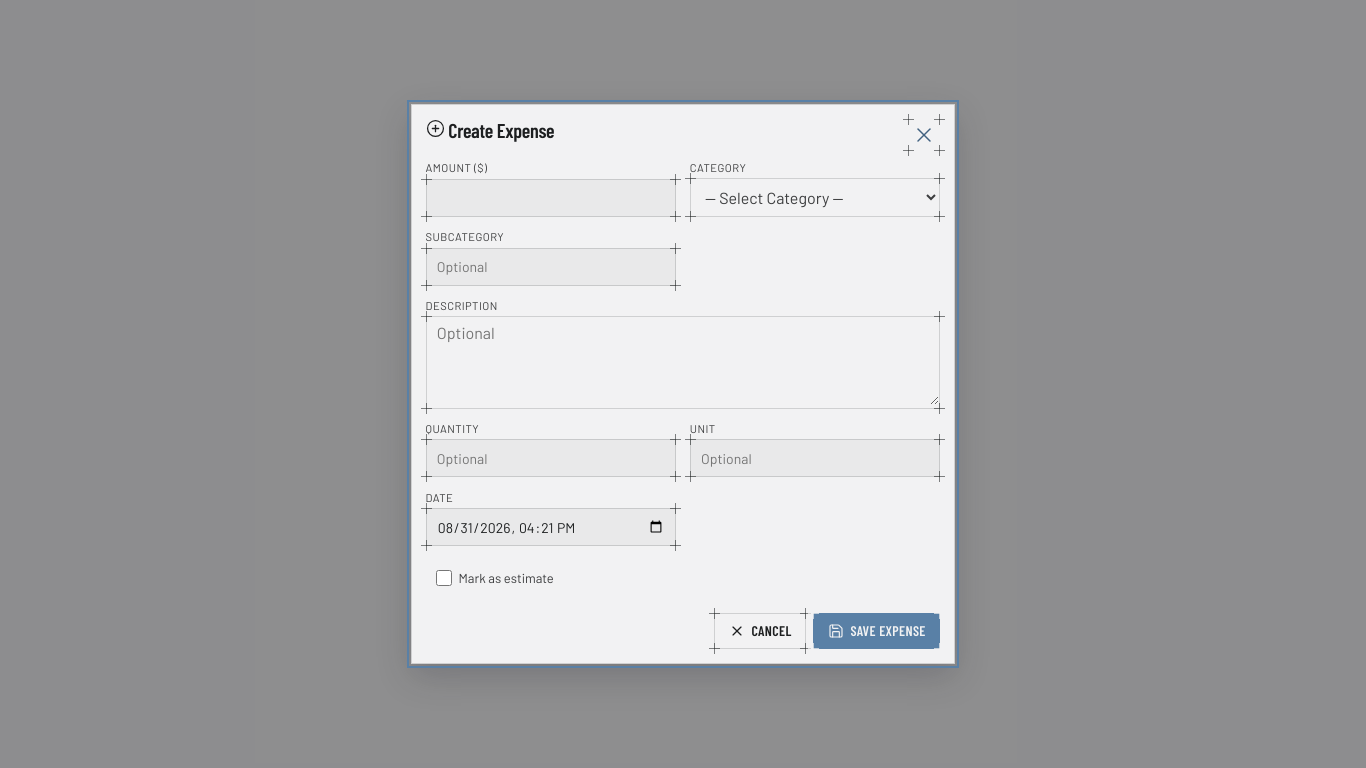
Test: ExpenseFormModal › validates category is required
This screenshot has width=1366, height=768.
Step 1. Type "1.00" into the number field labelled "Amount ($)" → (551, 198), box [427,180,675,216]
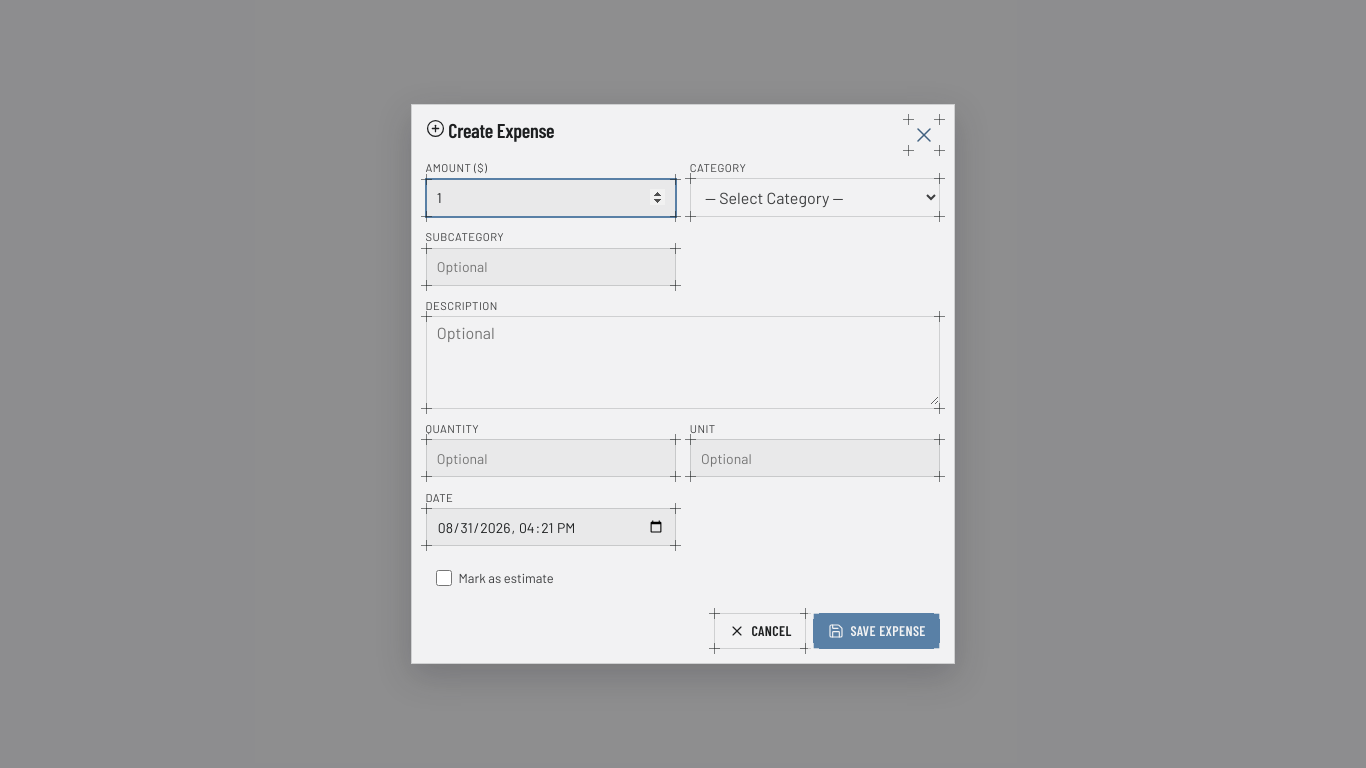
Step 2. Click the button "Save Expense" → (877, 631), box [813,613,940,649]
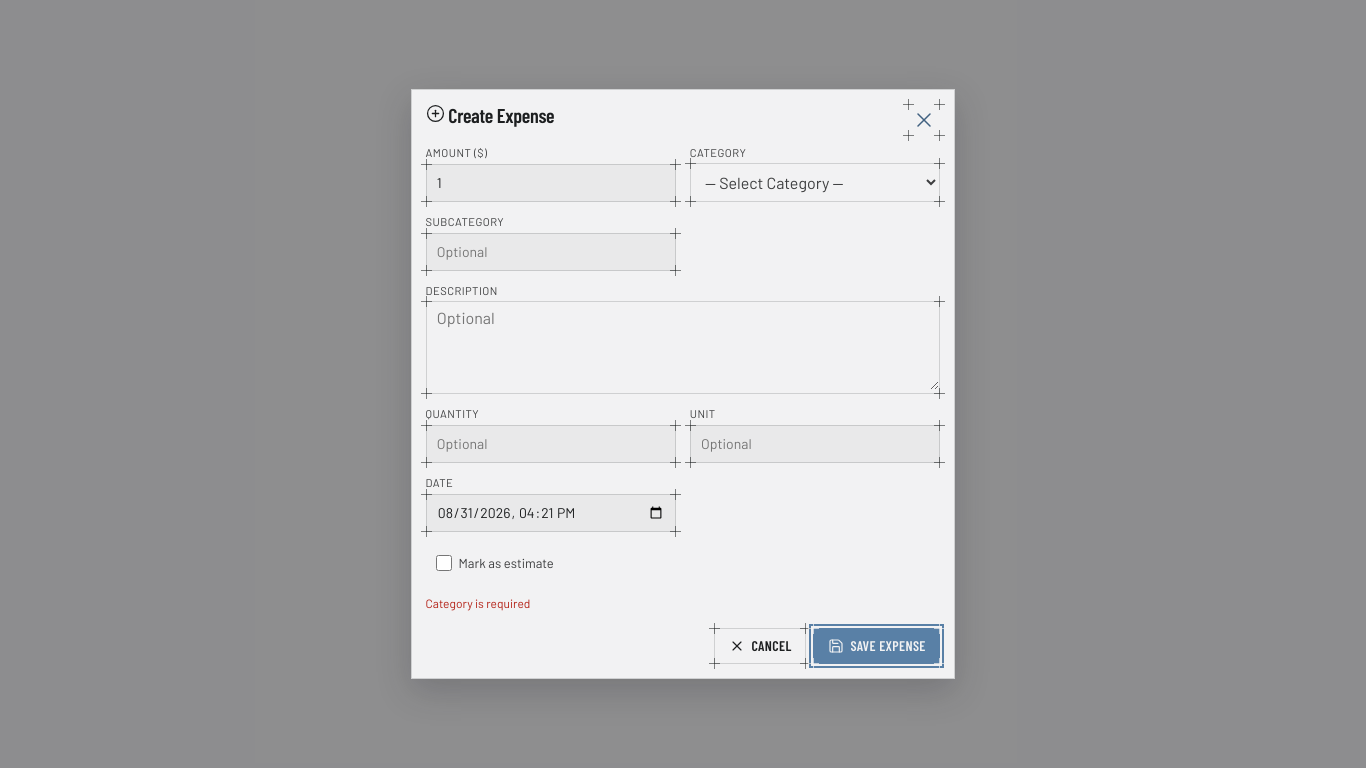
Expected: the message reads "Category is required", [426,596,530,610]
